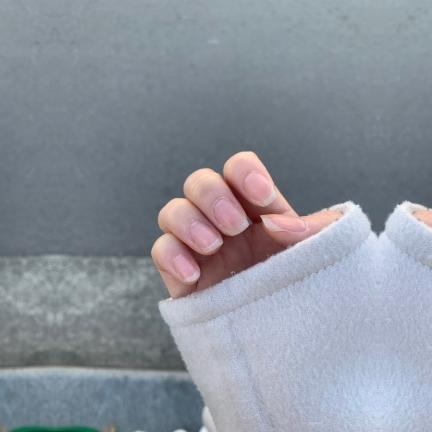Nail: (212, 199, 249, 236), (243, 173, 277, 207), (187, 221, 223, 253), (172, 255, 200, 284), (259, 214, 305, 231)
